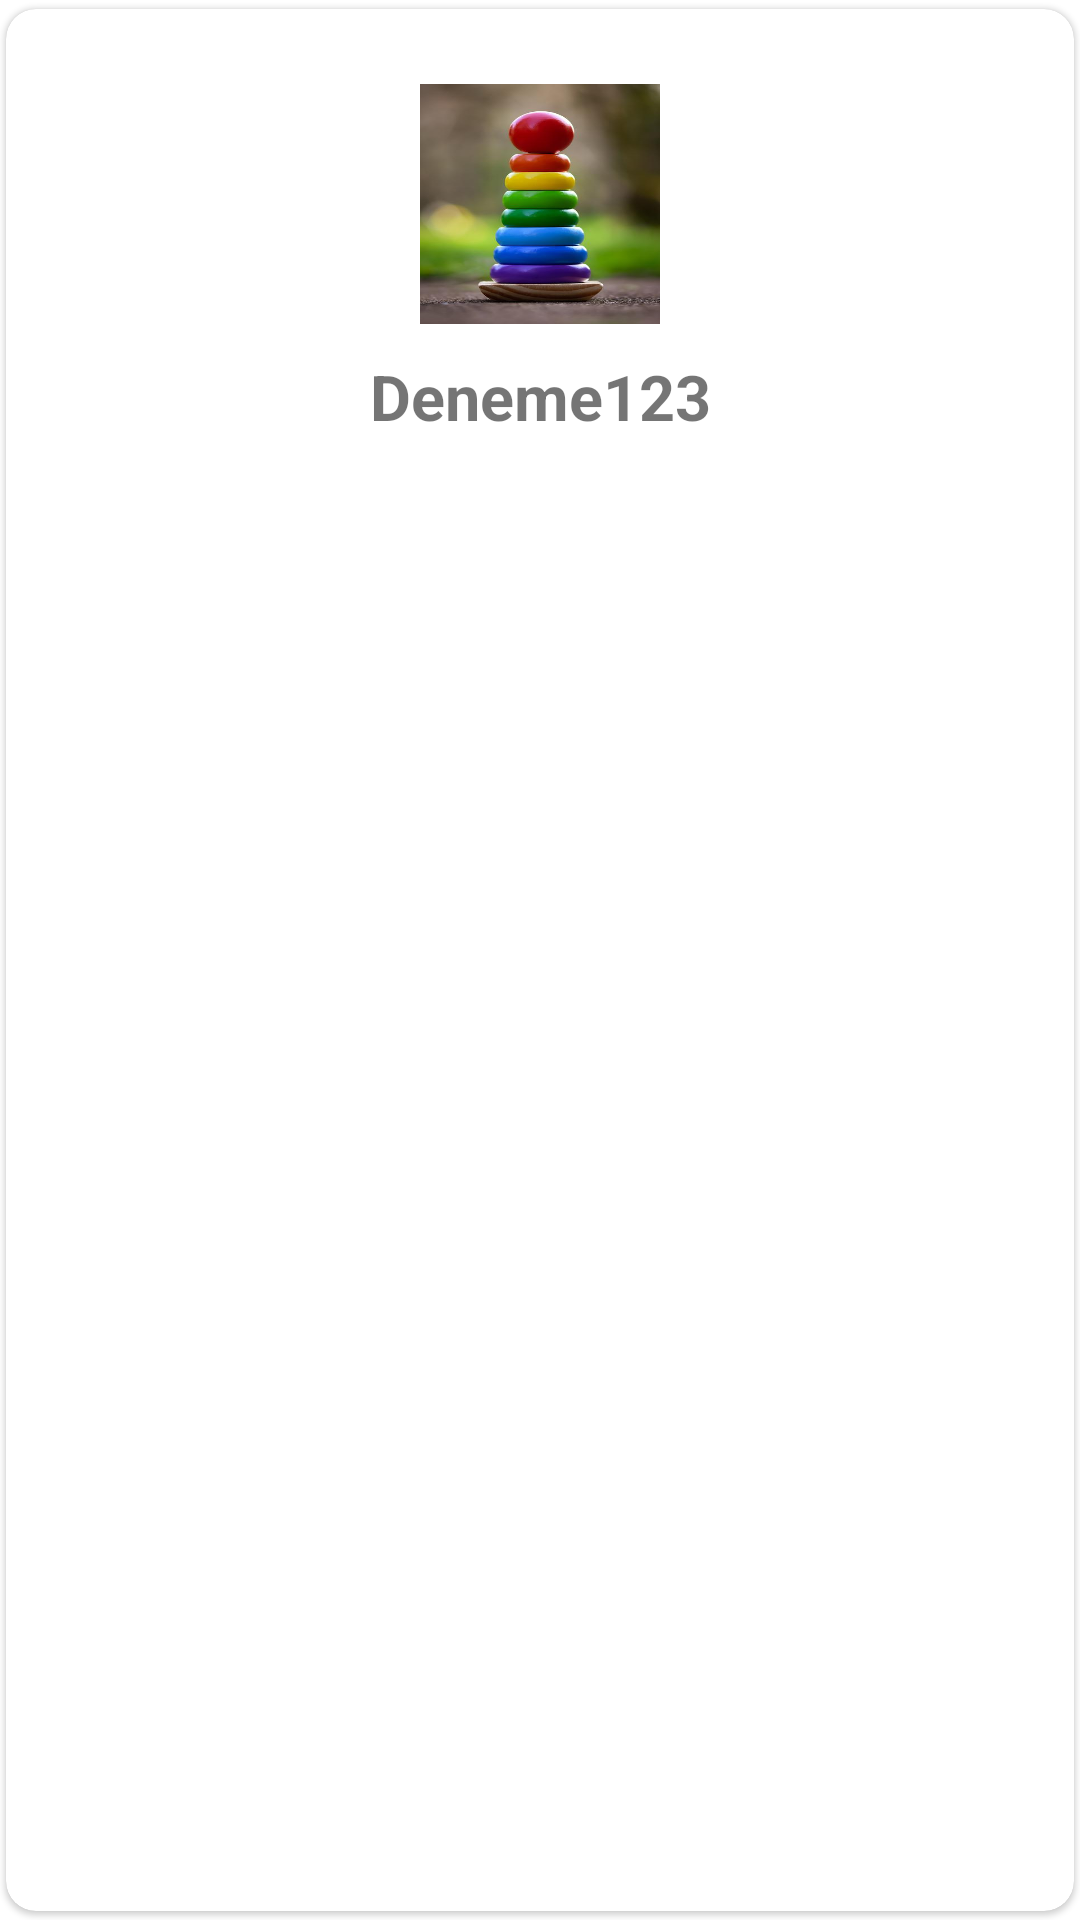

Where to tap for icons on this 1080 x 1920 app screen, as point (x, y):
nesne: point (540, 204)
